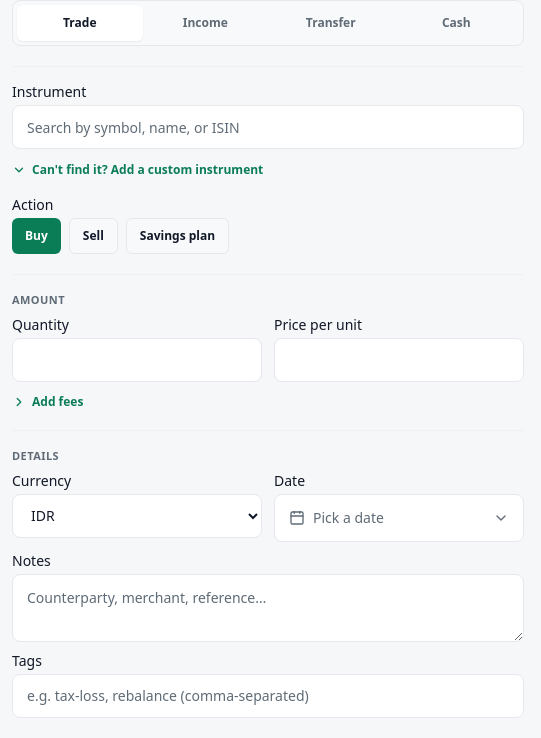
Test case: add-transaction disclosures › reports the custom-instrument disclosure state
What coordinates should you click on to do the following:
click the button "Can't find it? Add a custom instrument"
I would click on:
 (138, 170)
Its box is [12, 162, 263, 178].
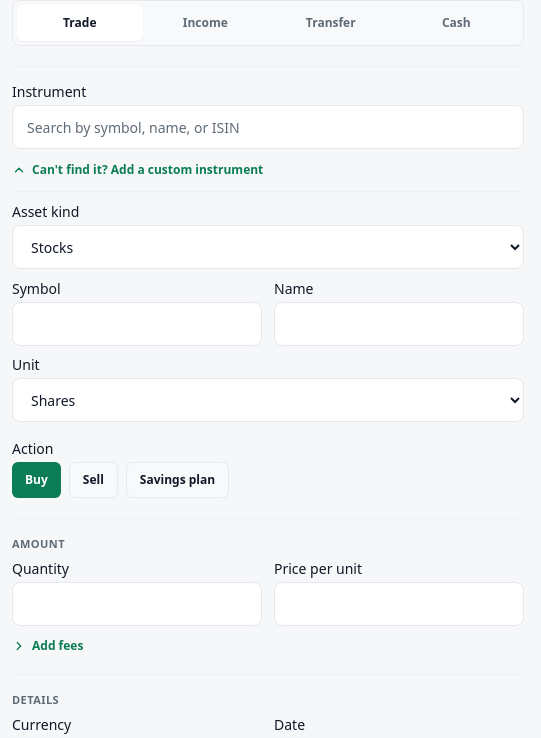
Check: the button "Can't find it? Add a custom instrument" is expanded, box [12, 162, 263, 178]
